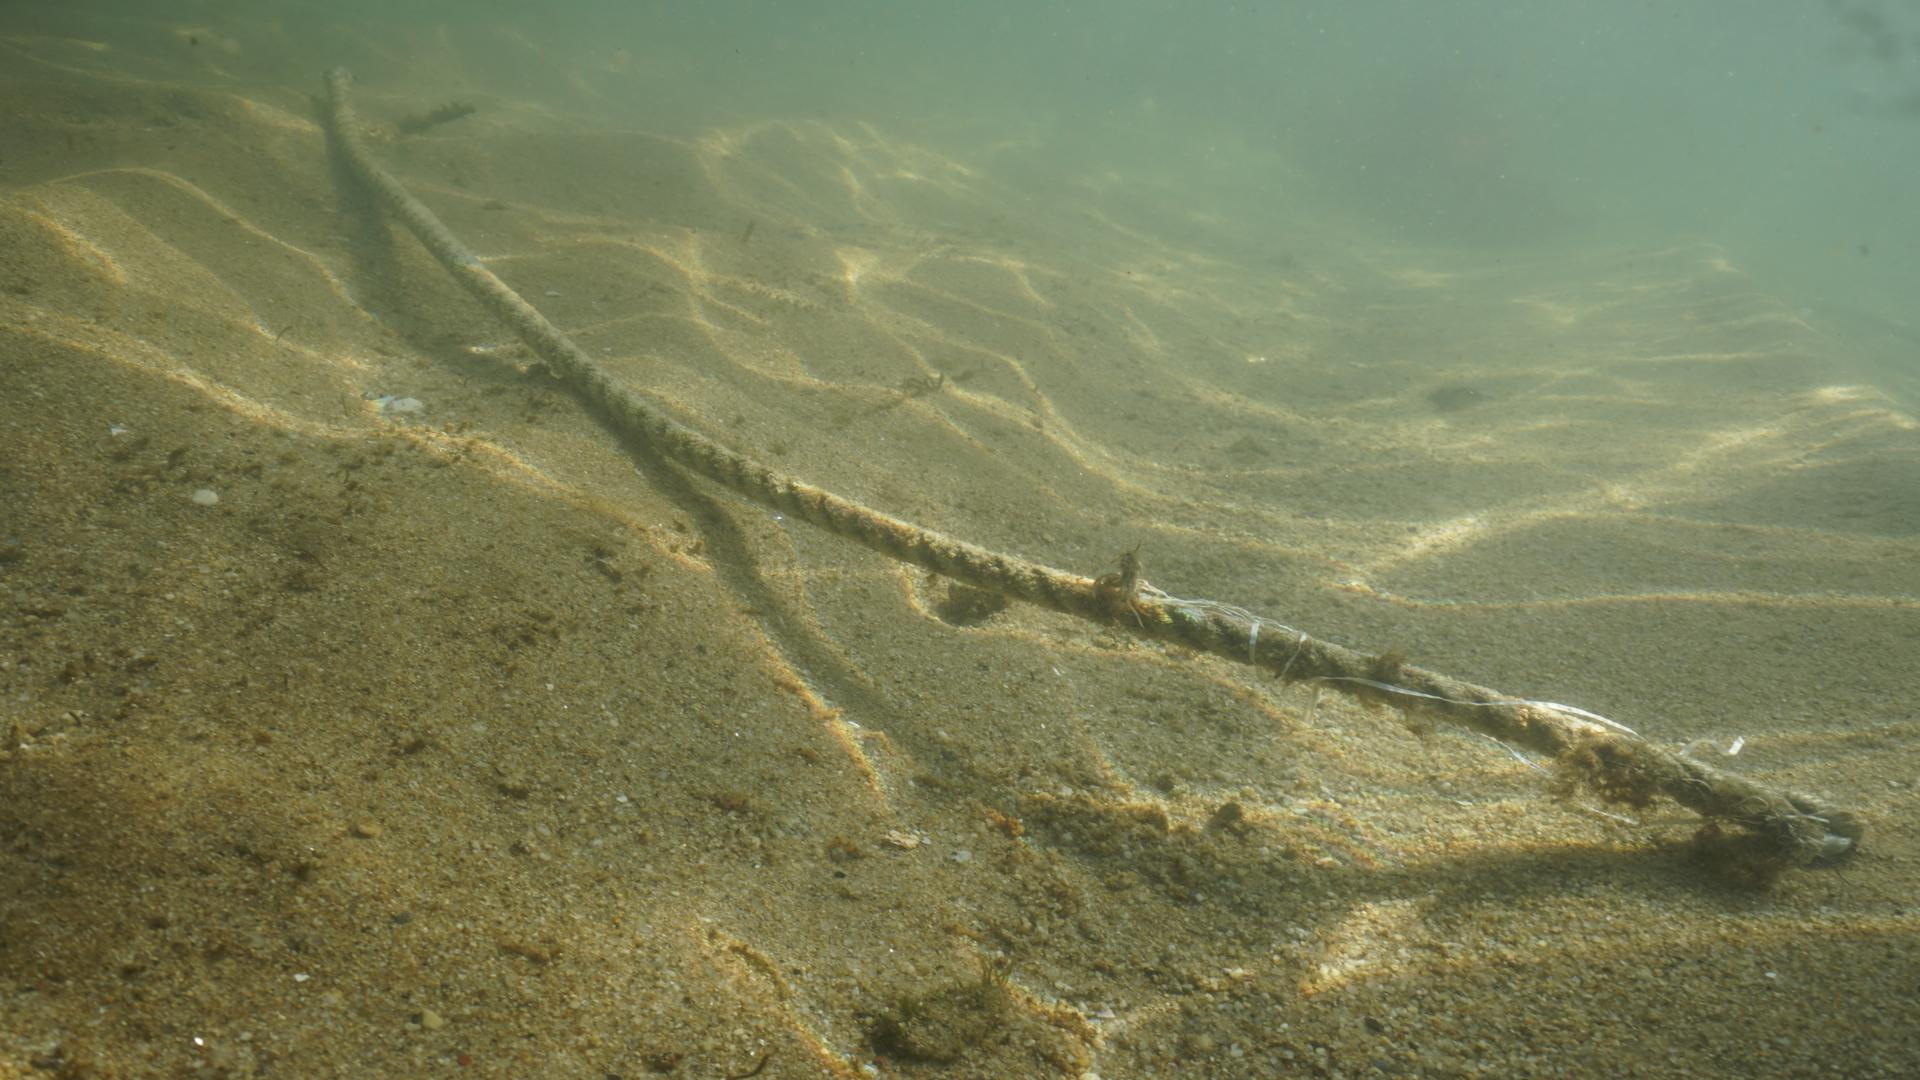rope: (318, 58, 1858, 862)
